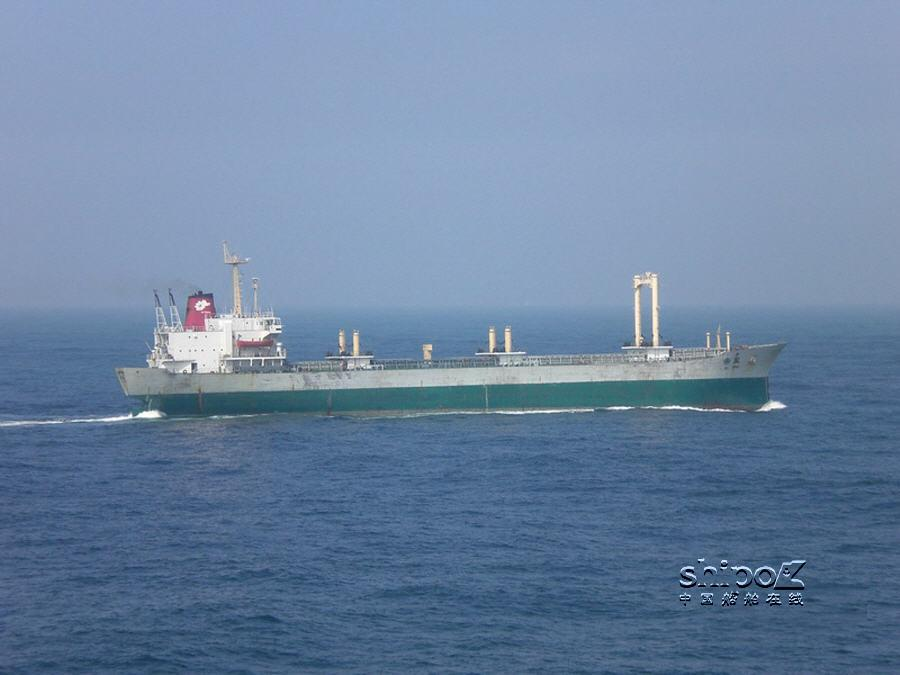Cargoship: (109, 238, 796, 428)
